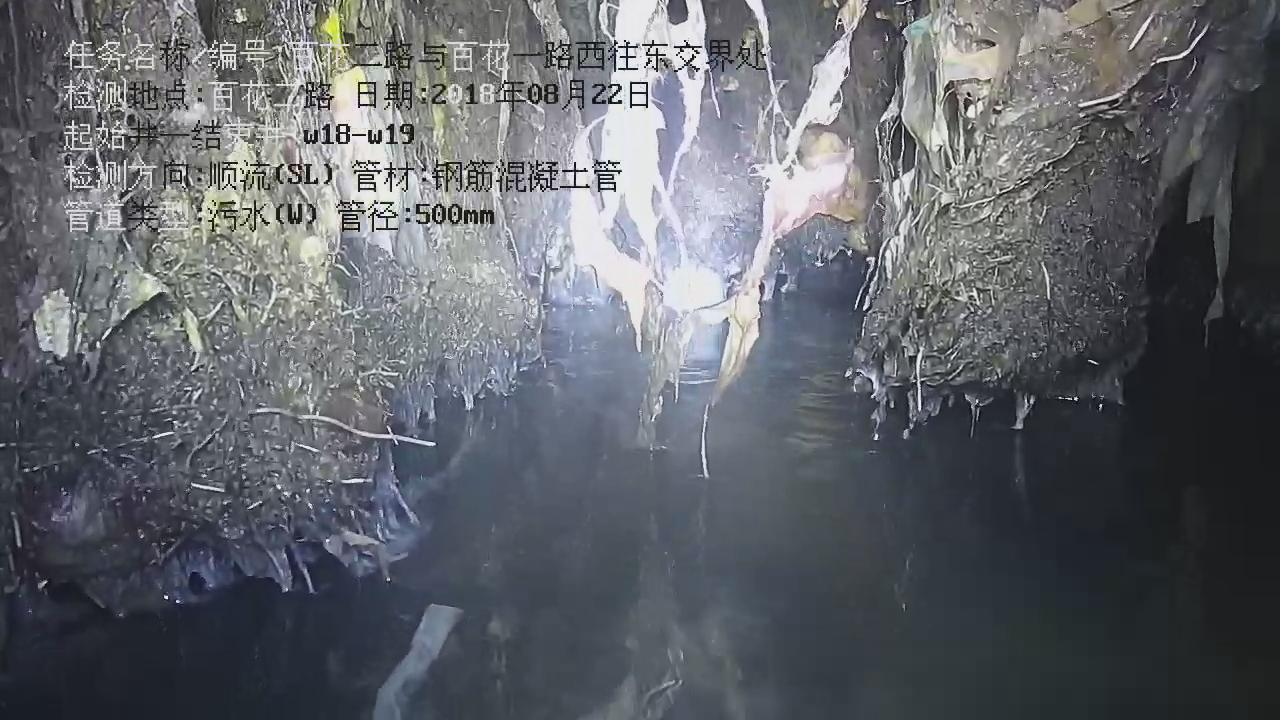SG: (0, 0, 1279, 609)
